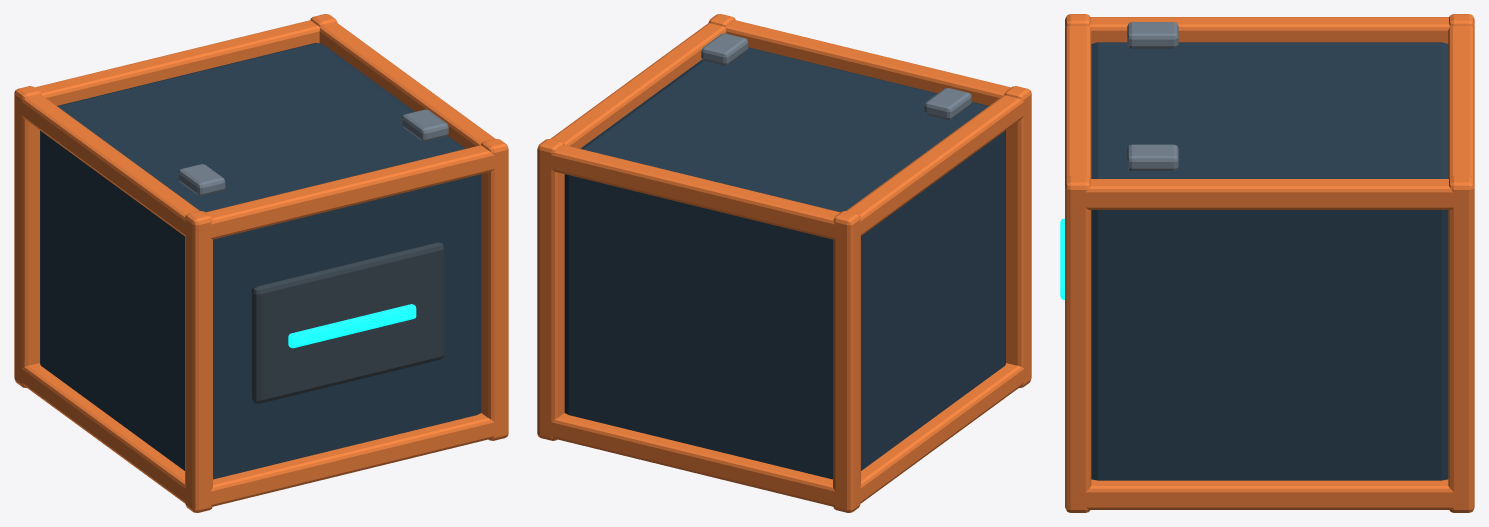
Rendered from cargo-crate.glb.
The picture shows the model from 3 angles, left to right: view 1: azimuth 30°, elevation 25°; view 2: azimuth 150°, elevation 25°; view 3: azimuth 270°, elevation 25°; orthographic projection. The views are drawn at different scales.
Parts seen in each view (by area): view 1: CrateBody, FrontPanel, FrameXFront_3.72, FrameXFront_0.18, VerticalFrame_-2.05_-2.05, VerticalFrame_2.05_-2.05, VerticalFrame_-2.05_2.05, FrameXBack_3.72, FrameYLeft_3.72, FrameYLeft_0.18, FrameYRight_3.72, FrontEnergyBar (+2 smaller); view 2: CrateBody, FrameXBack_3.72, FrameXBack_0.18, VerticalFrame_-2.05_2.05, VerticalFrame_2.05_2.05, VerticalFrame_-2.05_-2.05, FrameXFront_3.72, FrameYLeft_3.72, FrameYLeft_0.18, FrameYRight_3.72, TopLatch_1.55, TopLatch_-1.55; view 3: CrateBody, FrameYRight_3.72, FrameYRight_0.18, VerticalFrame_2.05_2.05, VerticalFrame_2.05_-2.05, FrameYLeft_3.72, FrameXBack_3.72, FrameXFront_3.72, TopLatch_-1.55, TopLatch_1.55.
Boxes of the visible parts, x1,y1,x2,y2 form: CrateBody: (40, 43, 481, 479); FrontPanel: (251, 242, 444, 403); FrameXFront_3.72: (199, 145, 505, 240); FrameXFront_0.18: (199, 413, 505, 507); VerticalFrame_-2.05_-2.05: (185, 211, 212, 512); VerticalFrame_2.05_-2.05: (481, 139, 508, 440); VerticalFrame_-2.05_2.05: (14, 86, 41, 387); FrameXBack_3.72: (35, 20, 319, 105); FrameYLeft_3.72: (15, 95, 199, 239); FrameYLeft_0.18: (15, 363, 191, 506); FrameYRight_3.72: (319, 23, 495, 148); FrontEnergyBar: (288, 304, 416, 348); CrateBody: (564, 47, 1005, 479); FrameXBack_3.72: (540, 145, 846, 240); FrameXBack_0.18: (540, 413, 846, 507); VerticalFrame_-2.05_2.05: (833, 211, 860, 512); VerticalFrame_2.05_2.05: (537, 139, 564, 440); VerticalFrame_-2.05_-2.05: (1004, 86, 1031, 387); FrameXFront_3.72: (726, 20, 1010, 105); FrameYLeft_3.72: (846, 95, 1030, 239); FrameYLeft_0.18: (854, 363, 1030, 506); FrameYRight_3.72: (550, 23, 726, 148); TopLatch_1.55: (701, 33, 748, 65); TopLatch_-1.55: (924, 88, 971, 119); CrateBody: (1091, 42, 1448, 480); FrameYRight_3.72: (1071, 179, 1468, 209); FrameYRight_0.18: (1071, 479, 1468, 509); VerticalFrame_2.05_2.05: (1448, 176, 1474, 512); VerticalFrame_2.05_-2.05: (1065, 176, 1091, 512); FrameYLeft_3.72: (1089, 17, 1449, 43); FrameXBack_3.72: (1448, 26, 1474, 180); FrameXFront_3.72: (1065, 26, 1091, 180); TopLatch_-1.55: (1127, 22, 1178, 48); TopLatch_1.55: (1127, 144, 1178, 170).
Size of the model in its own units: 1.23 by 1.12 by 1.24.
